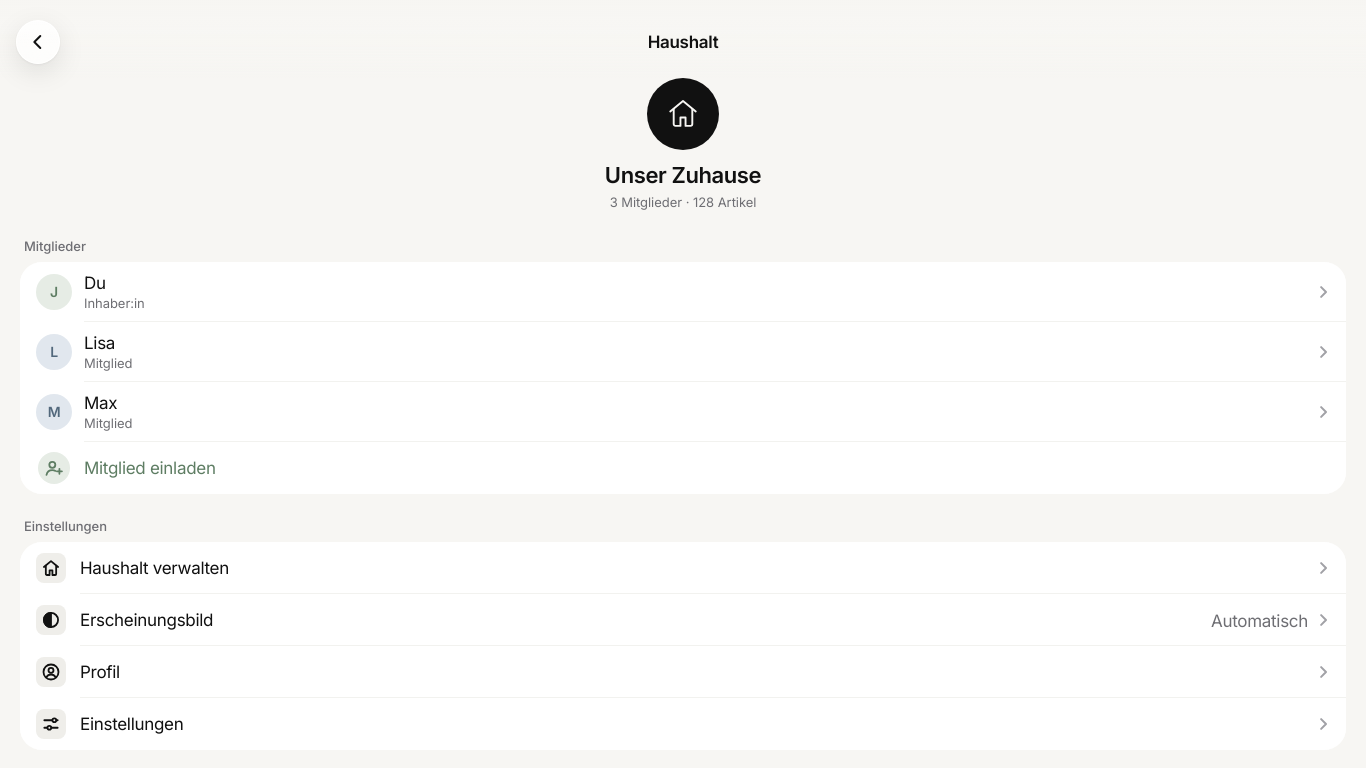
Test case: HouseholdScreen (design 09) › renames the household (ADMIN+)
Step 1. Click the button "Haushalt verwalten" → (154, 568), box [20, 542, 1346, 594]
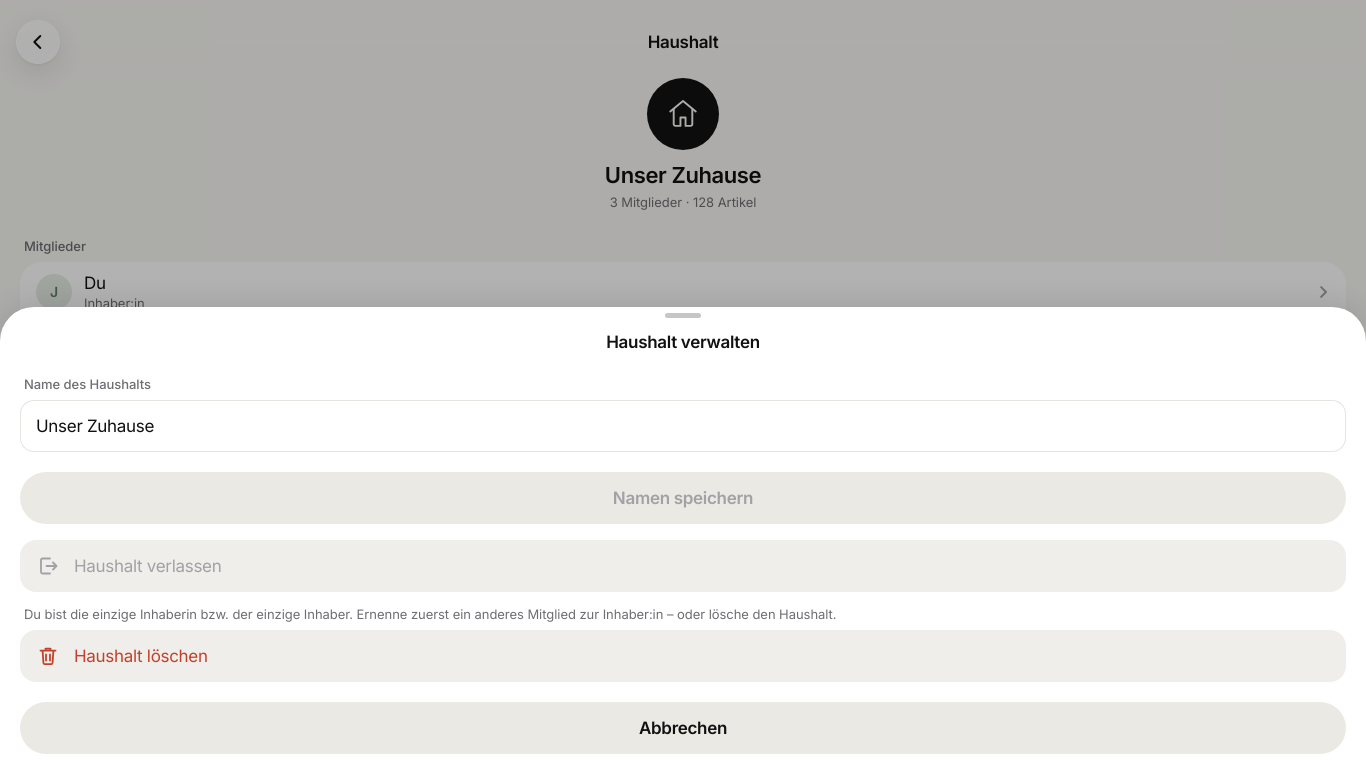
Result: the button "Namen speichern" is disabled at [20, 472, 1346, 524]
Step 2. Replace the text in the field labelled "Name des Haushalts" with "WG Basel" → (683, 426), box [36, 400, 1330, 452]
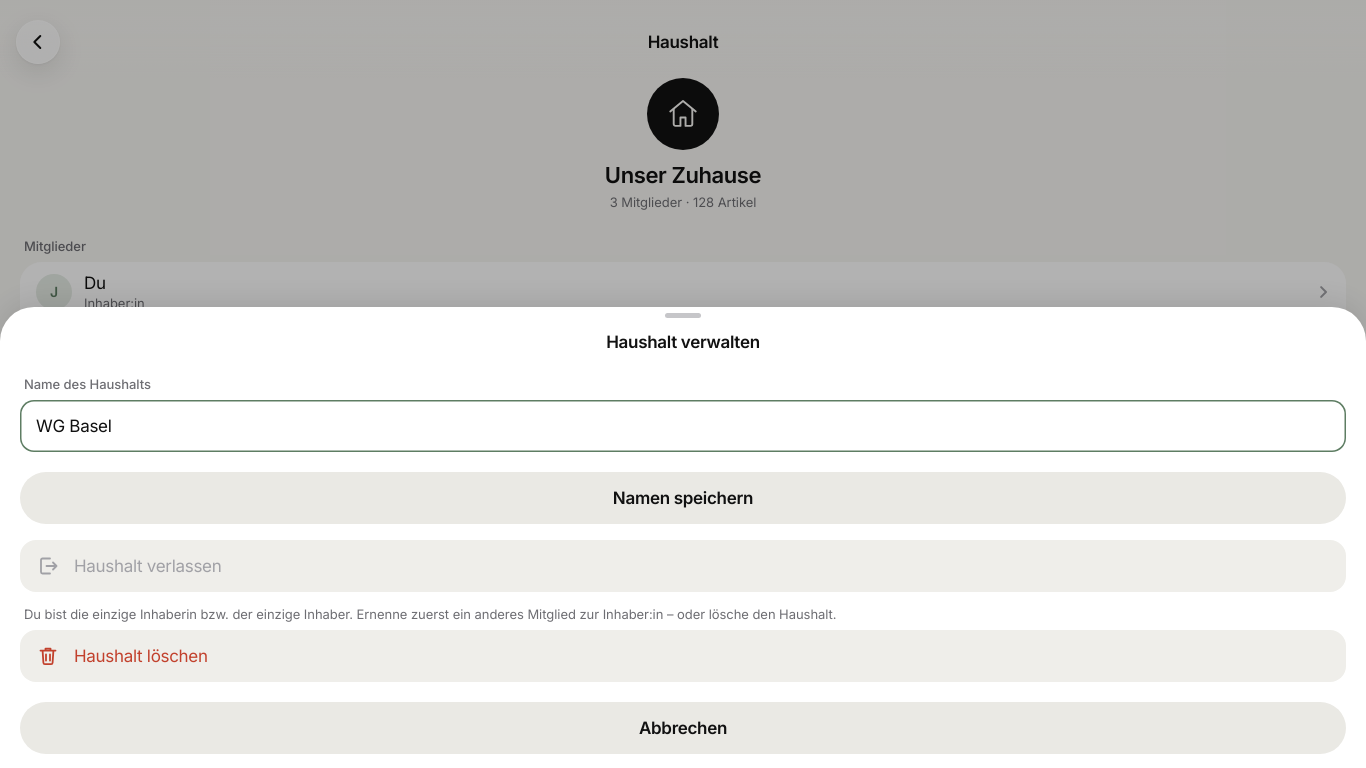
Step 3. Click the button "Namen speichern" → (683, 498), box [20, 472, 1346, 524]
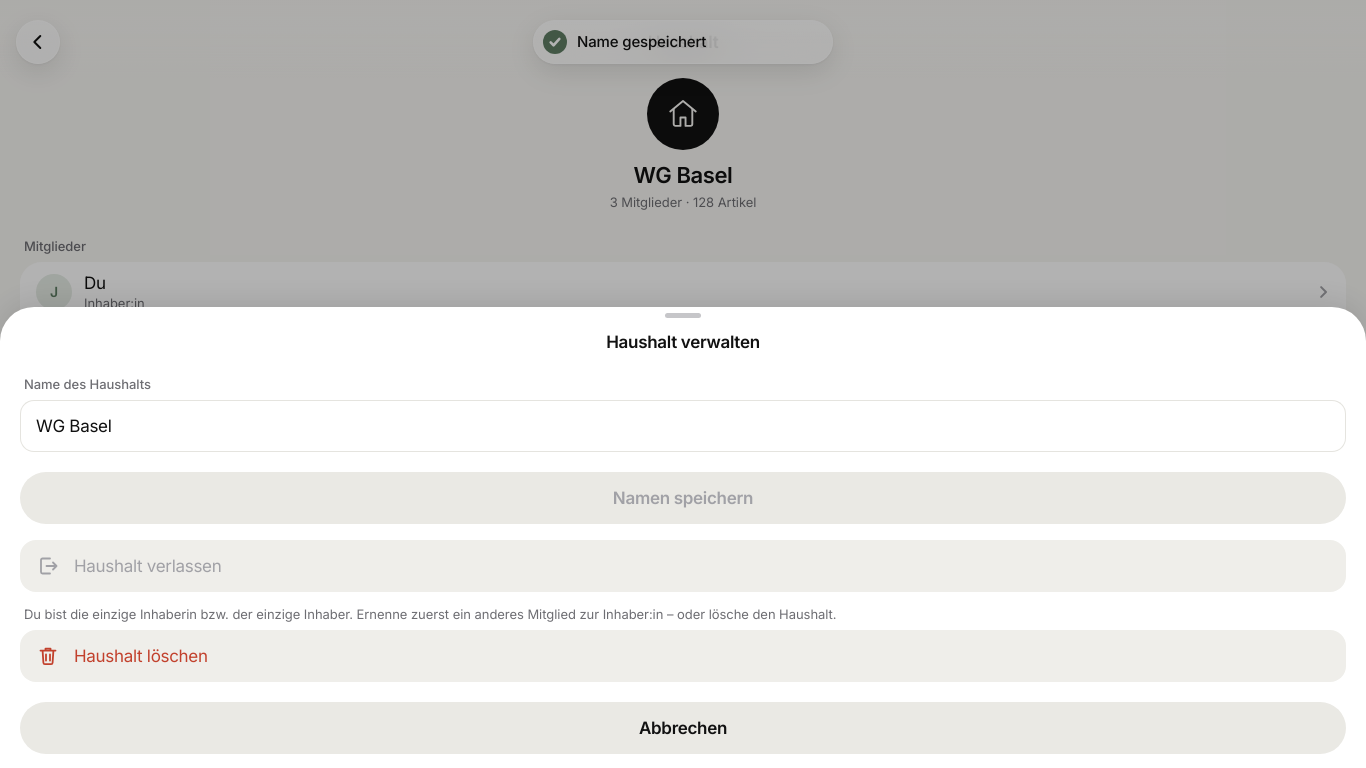
Result: the heading "WG Basel" is shown at [634, 162, 732, 190]
